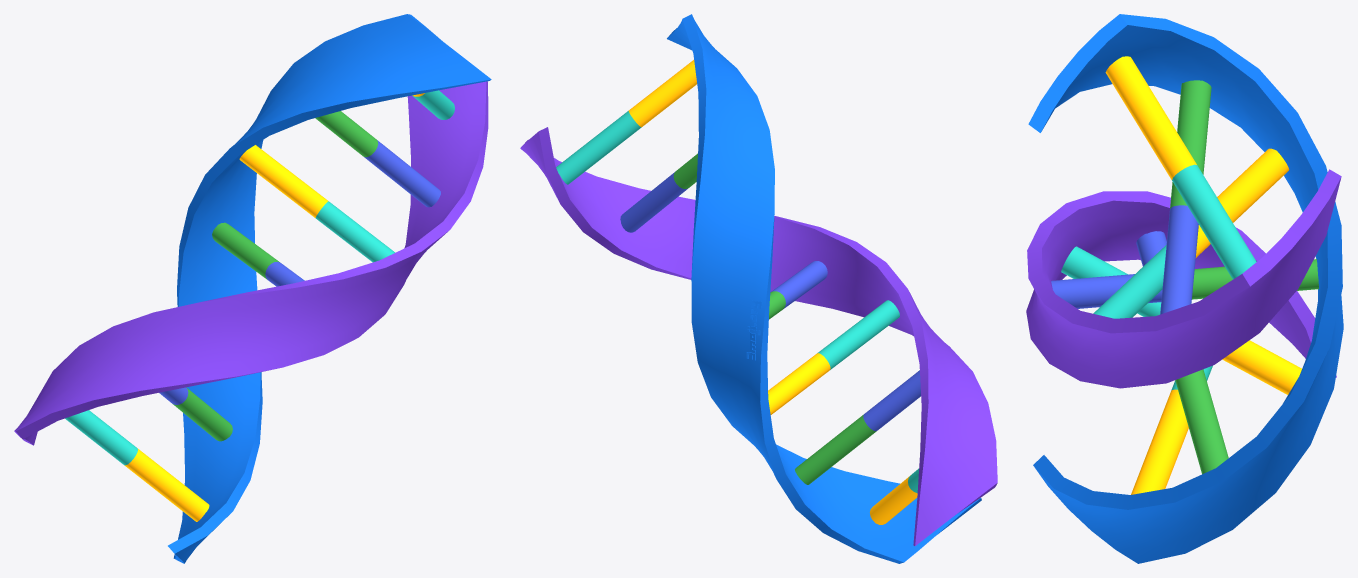
File: dna.gltf
3 views of the same model, side by side, from view 1: azimuth 30°, elevation 25°; view 2: azimuth 150°, elevation 25°; view 3: azimuth 270°, elevation 25° (orthographic). The views are drawn at different scales.
Parts seen in each view (by area): view 1: Plane.345; view 2: Plane.345; view 3: Plane.345.
Part boxes in pixels (bbox=[...]): Plane.345: bbox=[14, 14, 491, 563]; Plane.345: bbox=[520, 14, 997, 563]; Plane.345: bbox=[1026, 14, 1343, 563].
Bounding box in the file's own units: 2.12 × 2.12 × 0.8757.
Materials: 1 (1 with a texture image).
